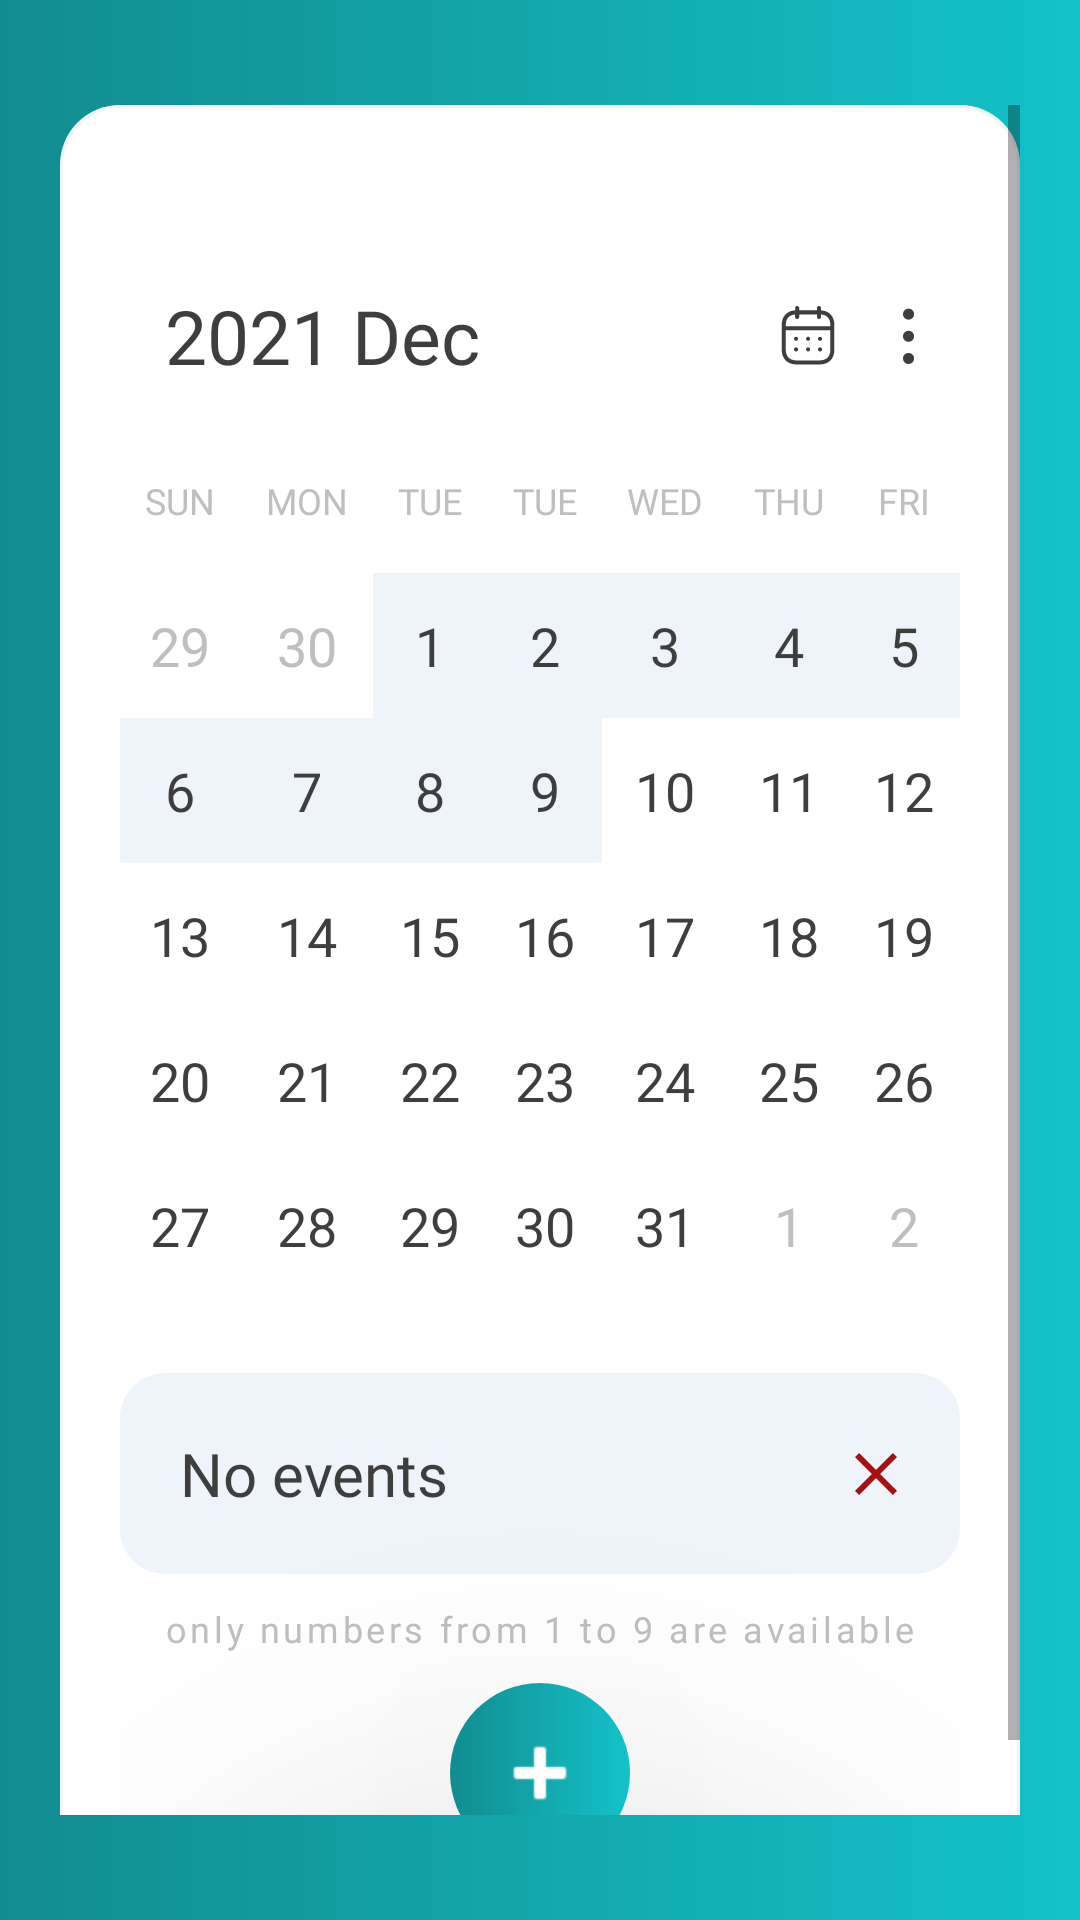

Icon bounding boxes for this 1080px x 1920px phone screenshot, format rect(x1, y1, x2, y2):
calendar: rect(781, 306, 835, 365)
close: rect(855, 1453, 897, 1495)
